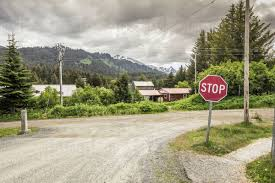Stop: (200, 71, 238, 110)
